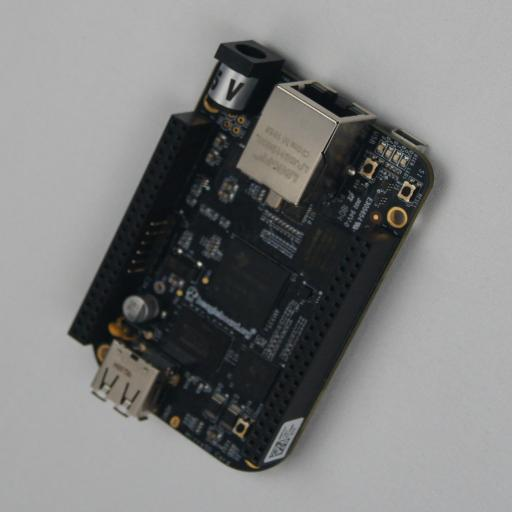Beaglebone Black: (68, 40, 443, 472)
